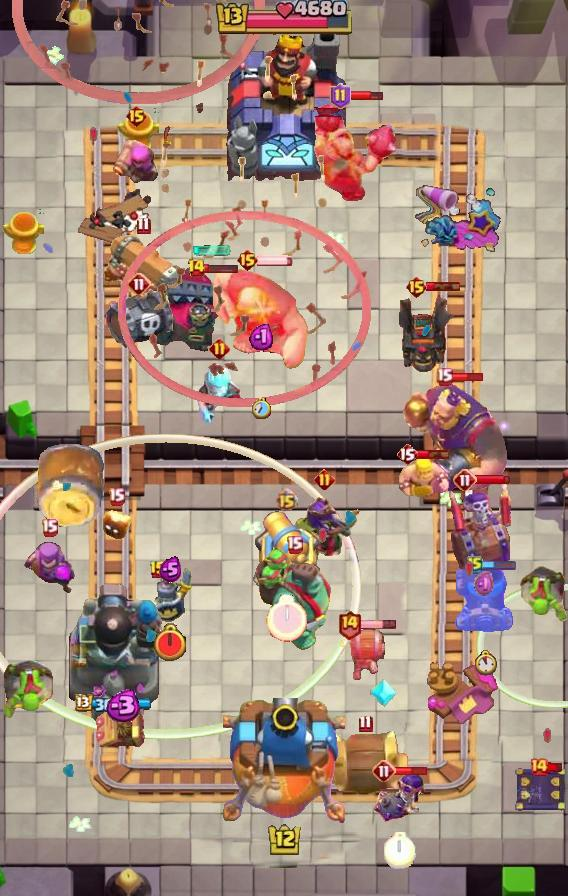archer: (396, 452, 452, 504)
archer-evolution: (399, 291, 459, 375)
balloon: (212, 265, 310, 377)
bar-level: (0, 659, 54, 721), (518, 563, 568, 623)
barbarian-hut: (285, 495, 363, 581)
battle-healer: (103, 229, 183, 301)
bomber: (101, 509, 131, 541)
clock: (213, 0, 355, 38)
dirt: (34, 440, 106, 530)
electro-spirit: (102, 689, 143, 722), (249, 322, 273, 350), (159, 557, 182, 584), (474, 570, 496, 598)
elixir: (265, 594, 306, 642), (152, 623, 188, 663), (384, 832, 416, 869), (474, 650, 499, 676), (253, 397, 272, 419)
emote: (348, 90, 384, 103), (256, 254, 294, 266), (415, 448, 451, 460), (475, 474, 511, 486), (481, 559, 517, 571), (394, 765, 430, 777), (451, 371, 486, 383), (359, 619, 397, 630), (204, 262, 240, 273), (426, 280, 462, 291), (547, 763, 564, 774)
goblin-ball: (372, 769, 428, 825)
goblin-brawler: (94, 701, 148, 751)
ice-spirit: (192, 244, 232, 256)
ice-spirit-evolution-symbol: (514, 764, 568, 814)
inferno-tower: (154, 268, 270, 356)
king-tower: (219, 21, 349, 181), (223, 698, 345, 826)
knight: (338, 626, 388, 682)
lava-hound: (252, 547, 336, 653)
lightning: (400, 380, 512, 492)
mortar: (193, 358, 245, 426)
musketeer: (455, 568, 515, 632)
pad_2: (369, 677, 397, 709)
princess: (146, 567, 194, 625)
rascal-girl: (21, 540, 77, 598)
royal-guardian: (311, 100, 399, 204)
royal-recruit: (247, 505, 325, 595)
royal-recruit-evolution: (102, 288, 176, 352)
selected: (74, 694, 154, 714)
skeleton-barrel: (119, 55, 374, 410), (11, 0, 265, 104)
skeleton-king-bar: (449, 479, 515, 573)
text: (337, 609, 362, 640), (127, 272, 151, 296), (453, 468, 477, 492), (372, 759, 396, 783), (125, 104, 148, 128), (237, 248, 260, 272), (404, 275, 427, 299), (330, 83, 351, 109), (274, 489, 297, 512), (396, 442, 418, 466), (209, 337, 231, 359), (314, 469, 335, 490), (529, 757, 549, 777), (186, 258, 205, 278), (149, 560, 167, 580), (41, 519, 59, 538), (435, 367, 453, 385), (107, 486, 124, 505), (467, 555, 483, 575), (286, 535, 303, 553), (359, 715, 373, 734), (137, 217, 151, 235)
the-log: (320, 729, 410, 797)
tombstone: (112, 133, 160, 187)
tower-bar: (63, 579, 165, 731)
